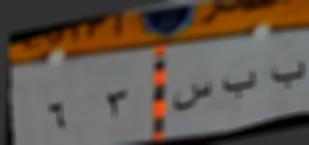3: (105, 77, 133, 124)
6: (46, 100, 70, 135)
baa: (220, 67, 260, 106), (265, 61, 309, 96)
seen: (171, 78, 215, 112)
